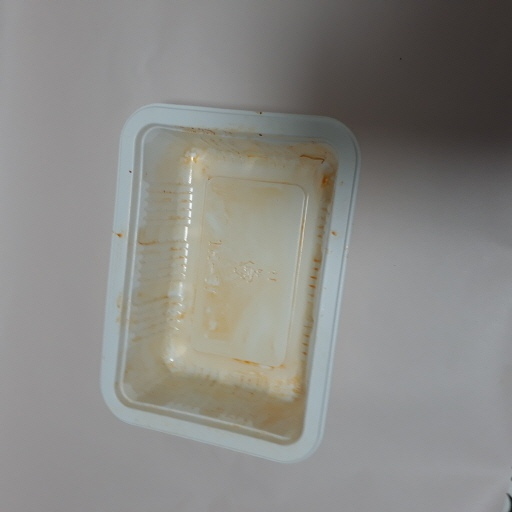Plastic_4: (93, 99, 358, 465)
